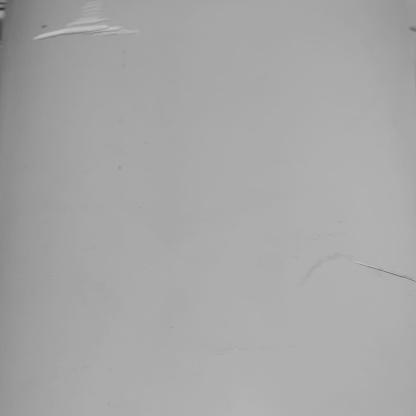sunshang: (29, 20, 139, 41), (356, 253, 416, 282)
